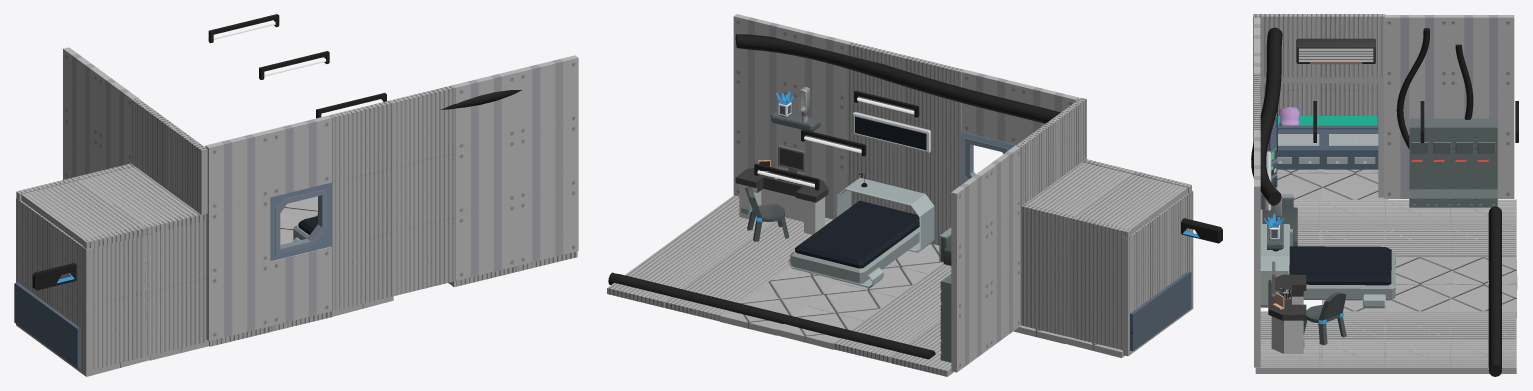
File: ExportRoom1.glb
3 views of the same model, side by side, from view 1: azimuth 30°, elevation 25°; view 2: azimuth 150°, elevation 25°; view 3: azimuth 270°, elevation 25° (orthographic). The views are drawn at different scales.
Parts seen in each view (by area): view 1: Wall-13 (10), Wall-11 (5), Wall-13 (11), Wall-13 (4), Wall-13 (7), Wall-13 (9), Wall-11 (4), Wall-11 (6), Wall-13 (6), Wall-13 (2), Wall-11 (2), Wall-13 (1) (+31 smaller); view 2: Bed-1, Pipe-1-5, Pipe-1-1, Wall-11 (12), Wall-11 (11), Computer-Table-3, Wall-11 (10), Wall-11 (13), Wall-13 (2), Wall-13 (4), Wall-13 (5), Wall-11 (3) (+56 smaller); view 3: Bed-1, Bed-2, Wall-13 (15), Wall-13 (14), Wall-13 (13), Wall-13 (16), Wall-11 (19), Wall-11 (18), Computer-Table-3, Pipe-1-5, Pipe-1-1, Floor-6 (2) (+50 smaller).
Boxes of the visible parts, left/top/right/bottom form: Wall-13 (10): left=205, top=130, right=270, bottom=212; Wall-11 (5): left=329, top=100, right=393, bottom=182; Wall-13 (11): left=267, top=115, right=331, bottom=197; Wall-13 (4): left=514, top=55, right=578, bottom=137; Wall-13 (7): left=206, top=262, right=270, bottom=340; Wall-13 (9): left=206, top=197, right=270, bottom=276; Wall-11 (4): left=390, top=85, right=455, bottom=167; Wall-11 (6): left=144, top=277, right=206, bottom=356; Wall-13 (6): left=270, top=246, right=331, bottom=326; Wall-13 (2): left=517, top=122, right=578, bottom=201; Wall-11 (2): left=394, top=152, right=455, bottom=231; Wall-13 (1): left=455, top=202, right=516, bottom=280; Bed-1: left=788, top=178, right=934, bottom=288; Pipe-1-5: left=735, top=34, right=1060, bottom=123; Pipe-1-1: left=608, top=272, right=935, bottom=359; Wall-11 (12): left=1071, top=216, right=1131, bottom=290; Wall-11 (11): left=1020, top=204, right=1076, bottom=277; Computer-Table-3: left=735, top=168, right=828, bottom=234; Wall-11 (10): left=1020, top=266, right=1073, bottom=337; Wall-11 (13): left=1071, top=278, right=1122, bottom=349; Wall-13 (2): left=733, top=76, right=790, bottom=147; Wall-13 (4): left=733, top=14, right=793, bottom=89; Wall-13 (5): left=790, top=28, right=850, bottom=103; Wall-11 (3): left=904, top=118, right=961, bottom=189; Bed-1: left=1260, top=224, right=1395, bottom=308; Bed-2: left=1277, top=108, right=1378, bottom=169; Wall-13 (15): left=1447, top=15, right=1514, bottom=78; Wall-13 (14): left=1384, top=15, right=1450, bottom=78; Wall-13 (13): left=1384, top=78, right=1450, bottom=138; Wall-13 (16): left=1447, top=78, right=1514, bottom=138; Wall-11 (19): left=1318, top=14, right=1385, bottom=77; Wall-11 (18): left=1253, top=14, right=1319, bottom=77; Computer-Table-3: left=1268, top=274, right=1306, bottom=353; Pipe-1-5: left=1251, top=27, right=1282, bottom=205; Pipe-1-1: left=1488, top=206, right=1501, bottom=376; Floor-6 (2): left=1384, top=340, right=1450, bottom=373.
Size of what is drawn, in the model's own units: 17.58 by 6.23 by 8.04.
Materials: 7 (7 with a texture image).
